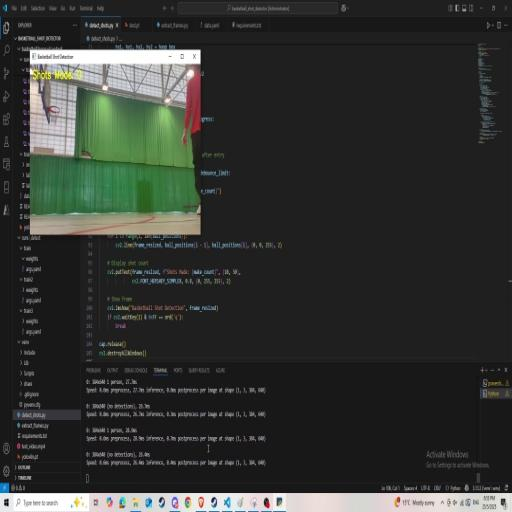hoops: (47, 103, 61, 126)
